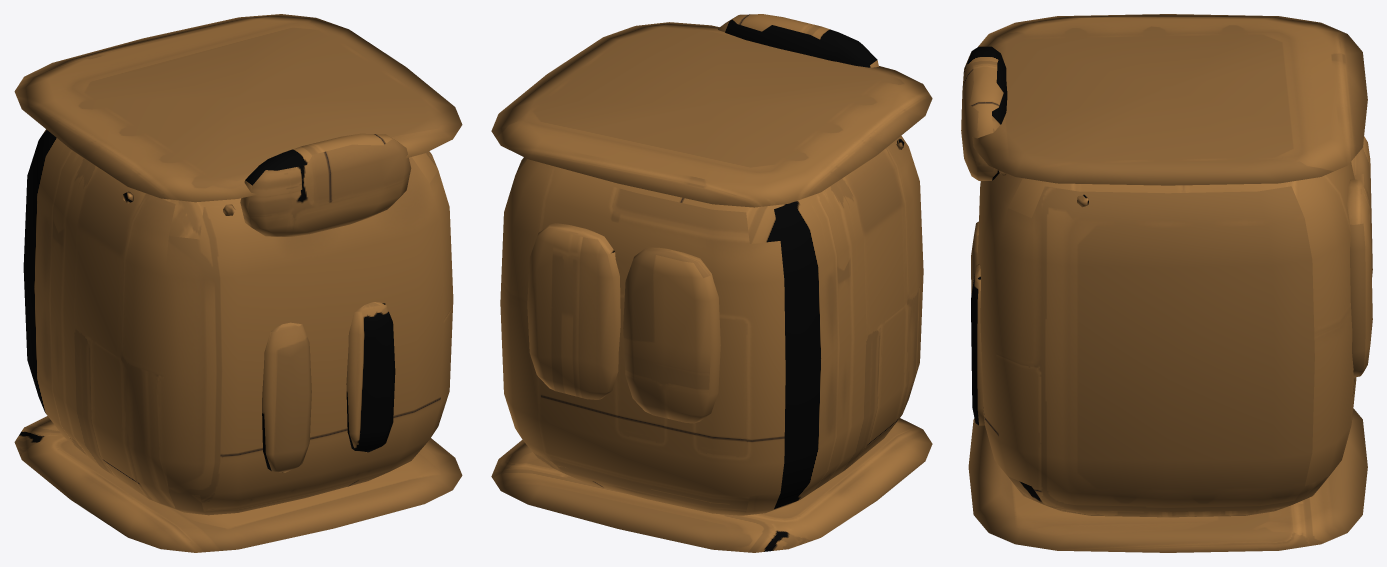
File: Atalanta_GrebaDer.fbx
3 renders of one model, left to right at view 1: azimuth 30°, elevation 25°; view 2: azimuth 150°, elevation 25°; view 3: azimuth 270°, elevation 25°, orthographic. The views are drawn at different scales.
Visible parts, largest first — view 1: Atalanta_GrebaDer; view 2: Atalanta_GrebaDer; view 3: Atalanta_GrebaDer.
Part boxes in pixels (x1,y1,x2,y2): Atalanta_GrebaDer: (14, 14, 462, 552); Atalanta_GrebaDer: (491, 14, 932, 552); Atalanta_GrebaDer: (961, 14, 1372, 552).
Size of the model in its own units: 1.2 by 1.33 by 1.22.
